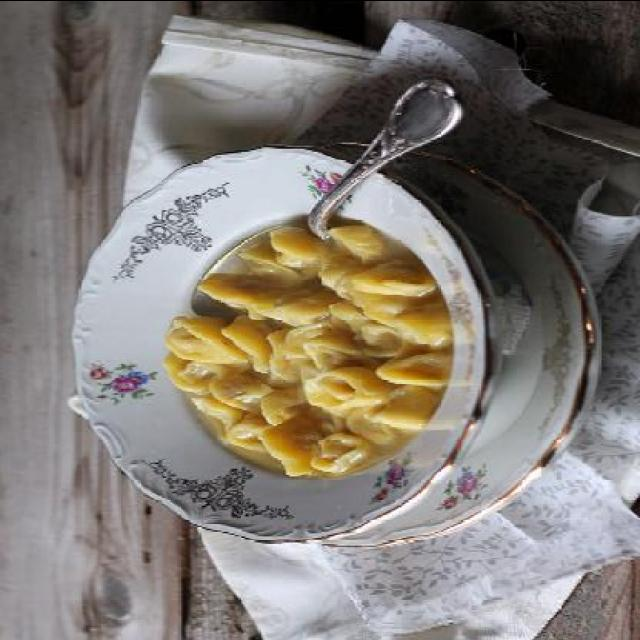Tortellini in broth: (153, 218, 464, 498)
